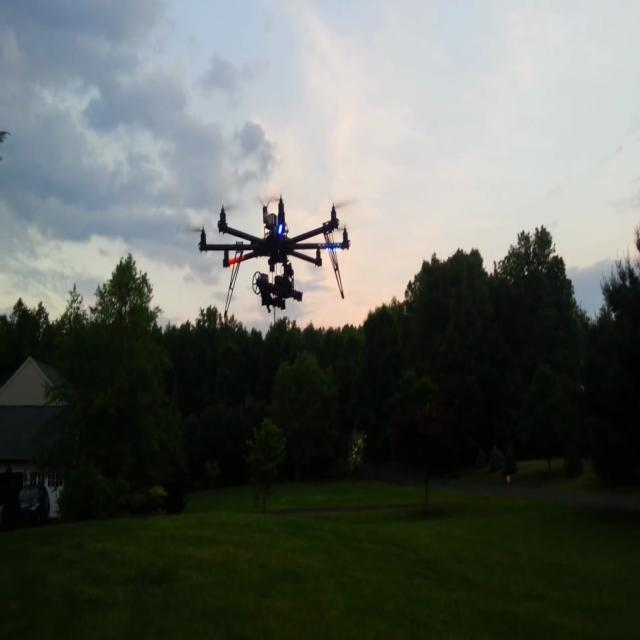drone: (196, 173, 357, 345)
